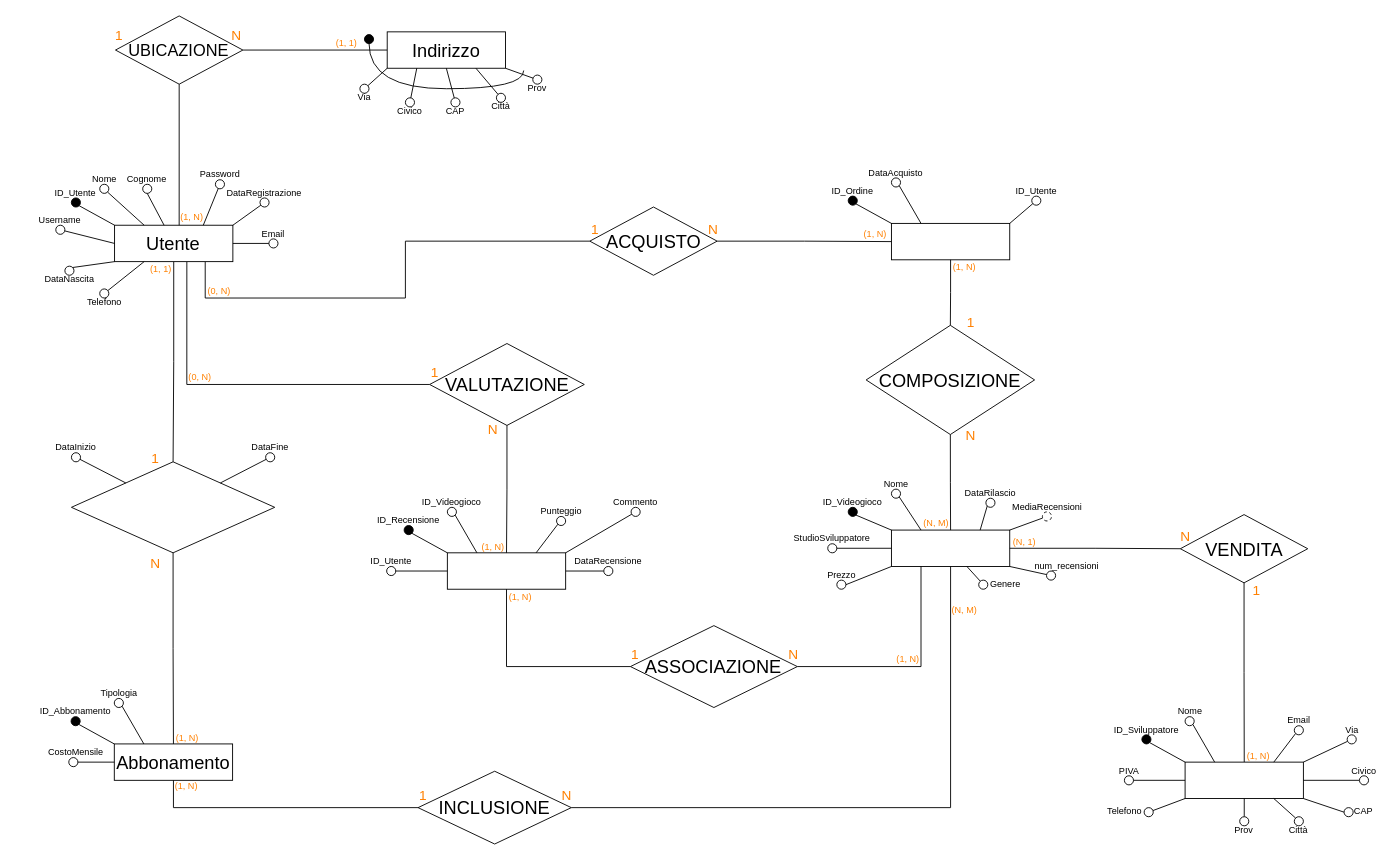
This 1394x860 diagram has some shape labels left out. The centre of each missing label's shape, as x and y in pixels:
"Ordine" goes at point (950, 241).
"Recensione" goes at point (506, 570).
"SOTTOSCRIZIONE" goes at point (173, 507).
"Sviluppatore" goes at point (1243, 780).
"Videogioco" goes at point (950, 547).
